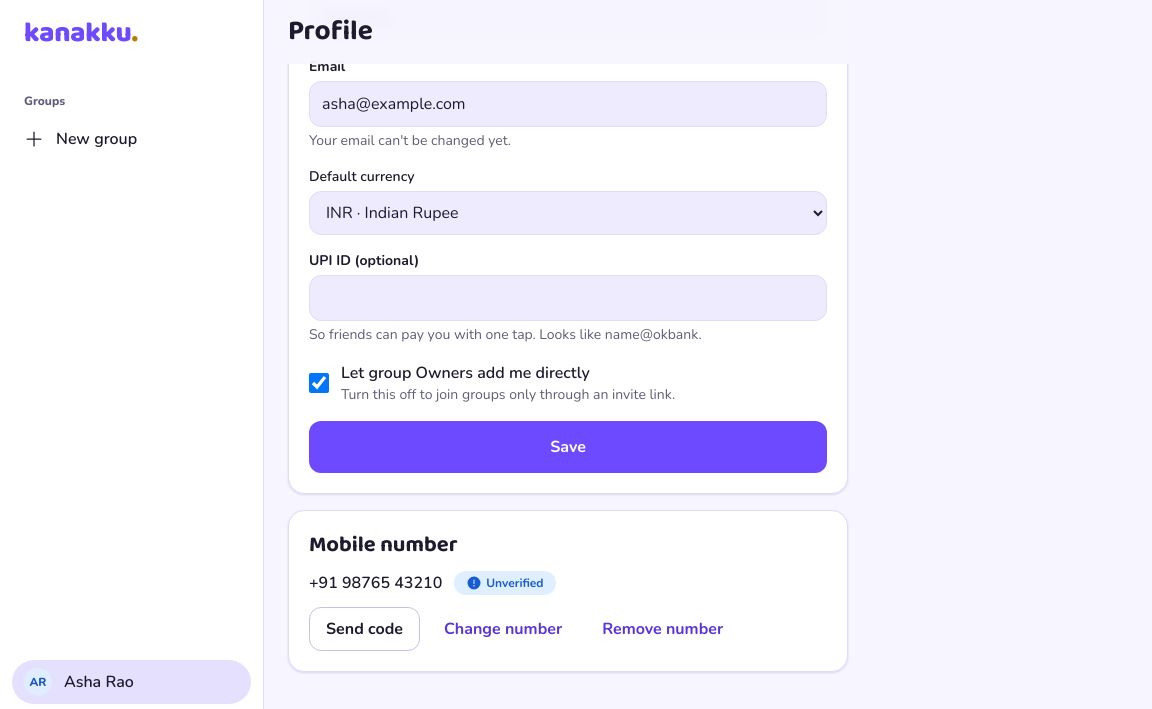
it: PhoneSection › says so when the text could not be sent
(page scrolled)
expect the heading "Mobile number" is shown: met, box [309,527,458,563]
Click the button "Send code".
click(364, 629)  # box [309,607,420,651]
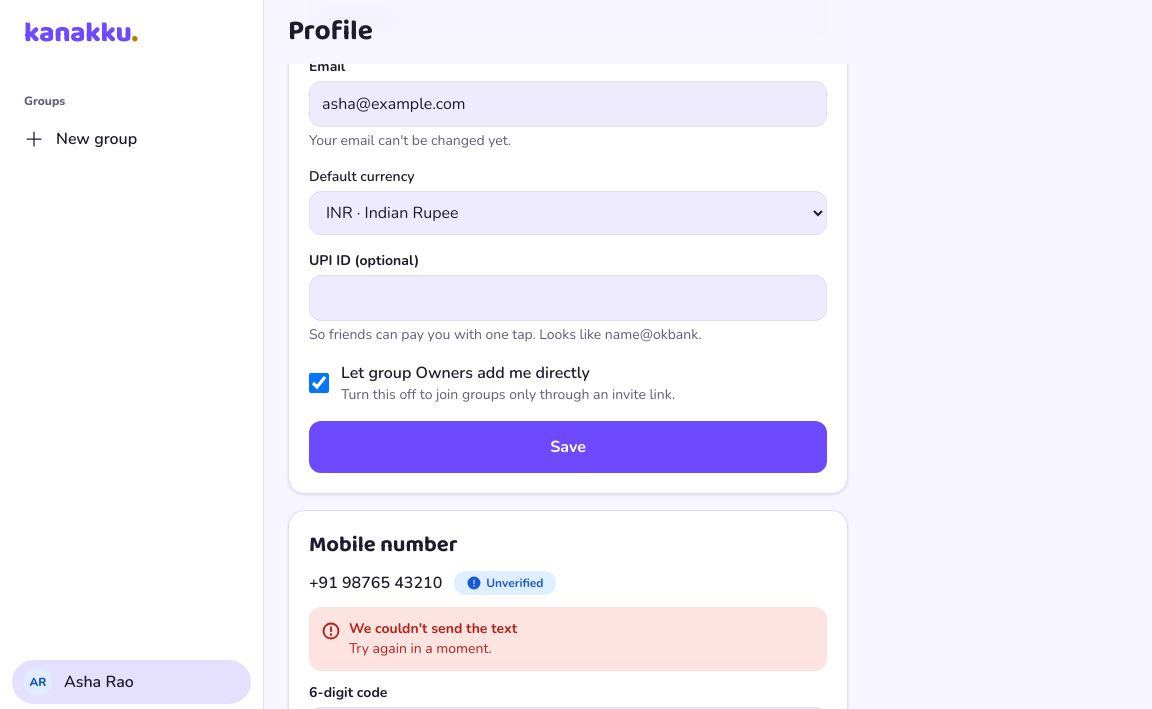
expect the text "We couldn't send the text" is shown: met, box [349,619,517,639]
